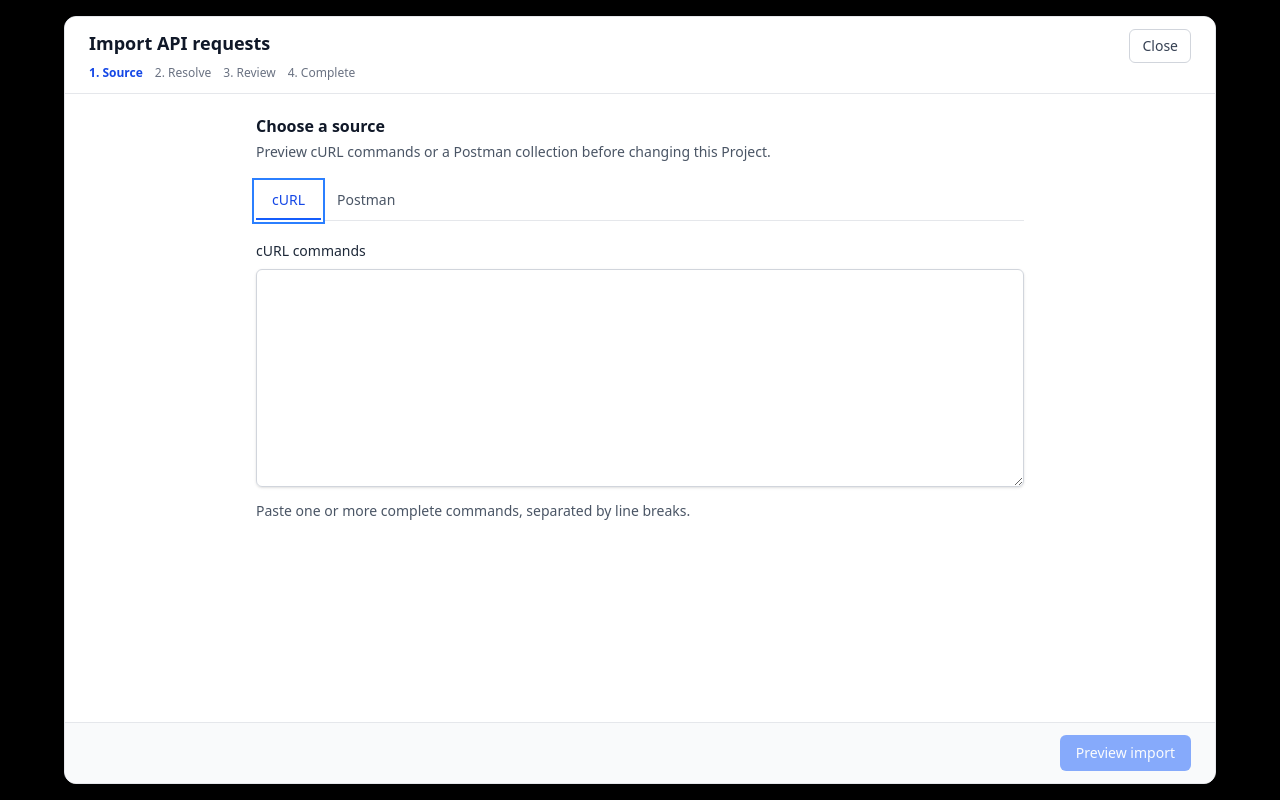
Scenario: ImportWizard › reviews normalized origin and every query occurrence with the hidden-value warning
In the text box labelled "cURL commands": coordinates (640, 378) [256,269,1024,487], type "curl -H 'Authorization: super-secret' https://api.example.test/users"
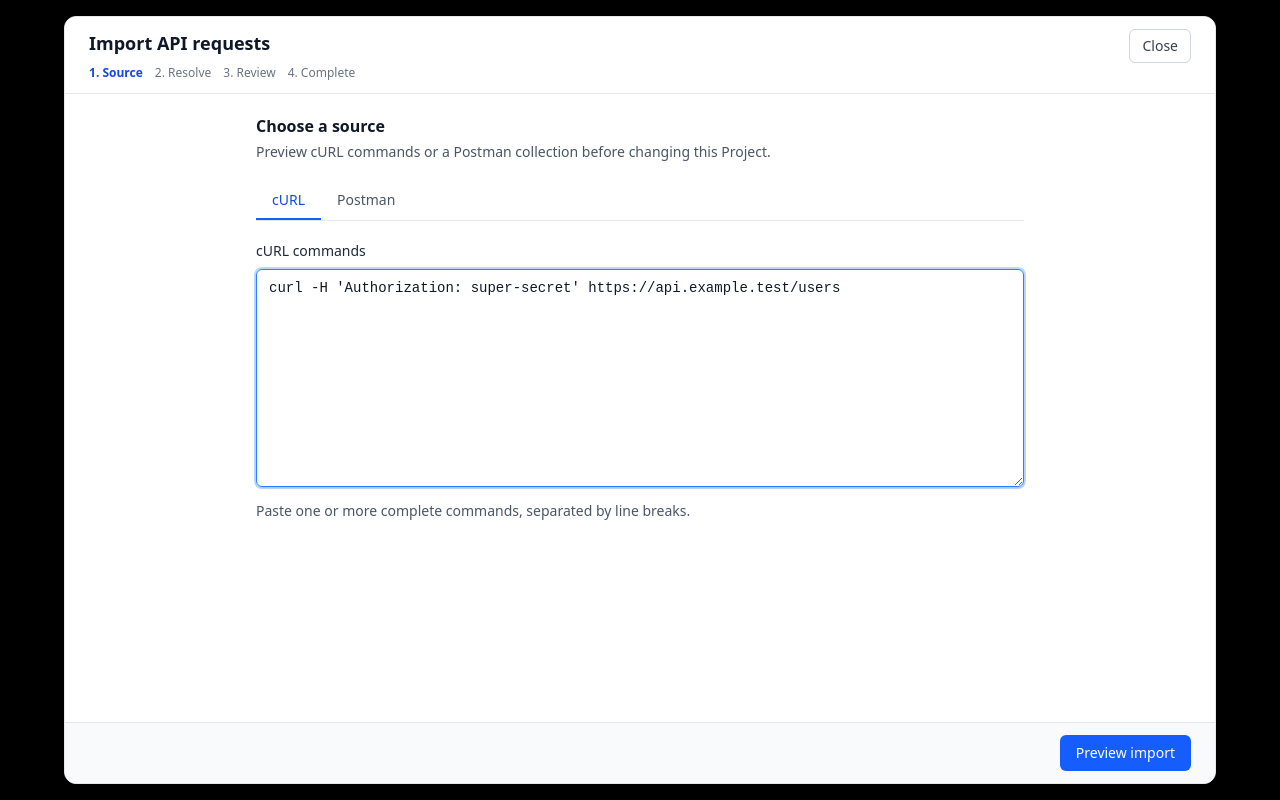
Click the button "Preview import": coordinates (1125, 753) [1060,735,1191,771]
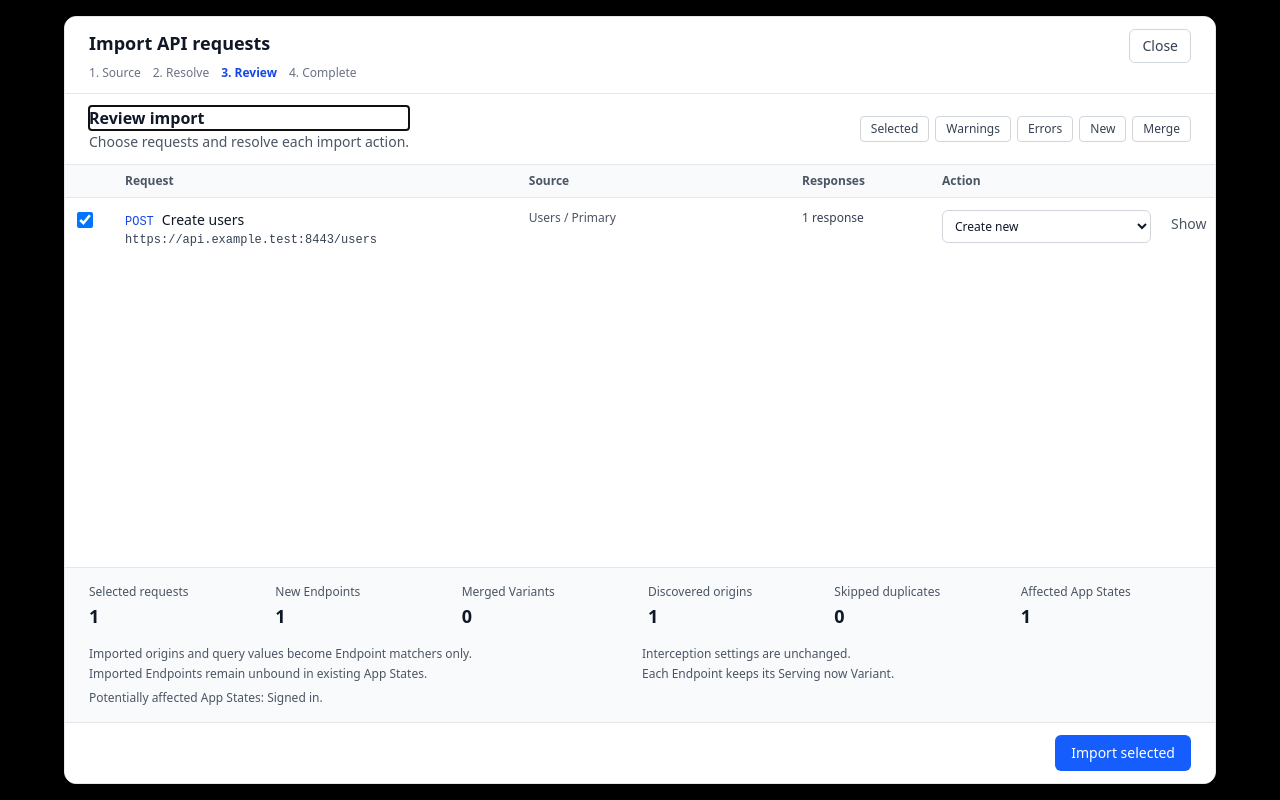
Now the heading "Review import" is shown, box [89,107,204,129]
Now the text "https://api.example.test:8443/users" is shown, box [125,233,377,247]
Click the button with aria-label "Show details for Create users": coordinates (1189, 224) [1163,210,1214,238]
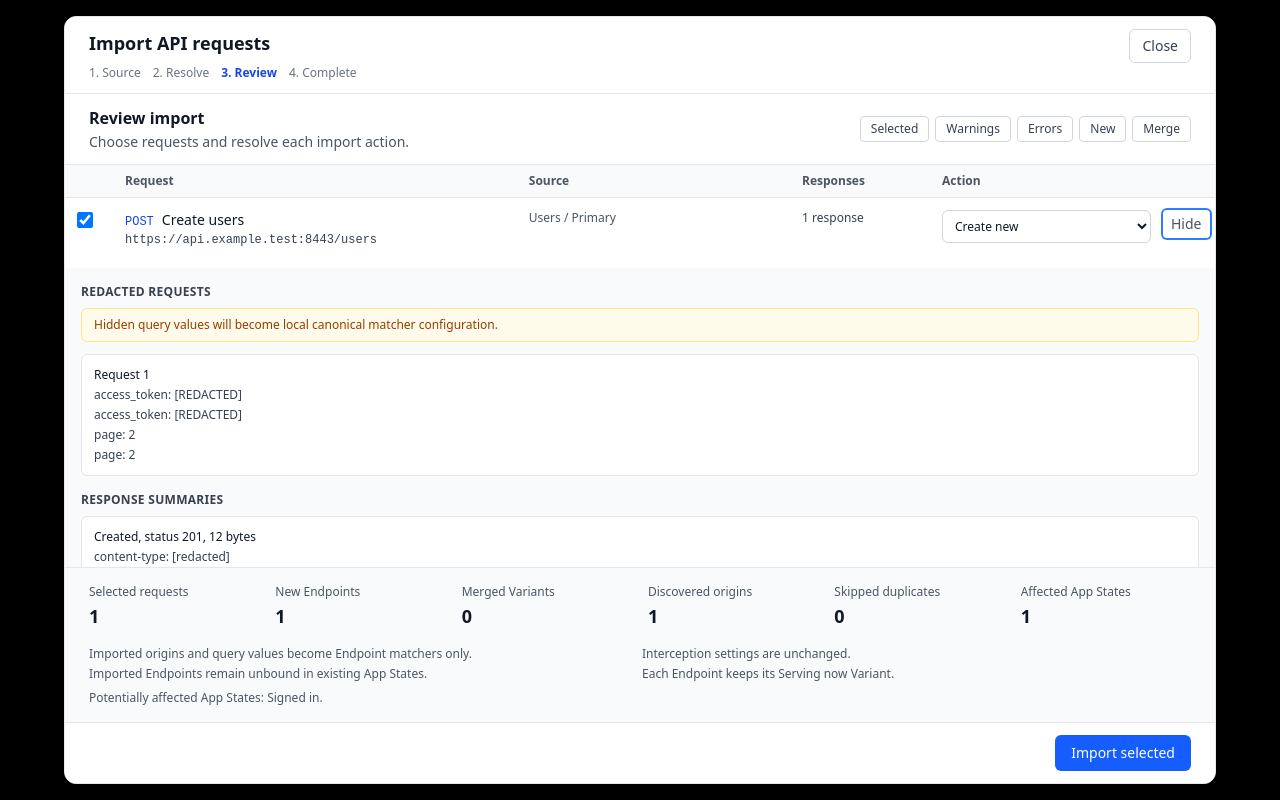
Now the text "access_token:" is shown 2 times, box [94,386,171,403]; [94,406,171,423]
Now the text "page:" is shown 2 times, box [94,426,126,443]; [94,446,126,463]
Now the text "Hidden query values will become local canonical matcher configuration." is shown, box [81,308,1199,342]
